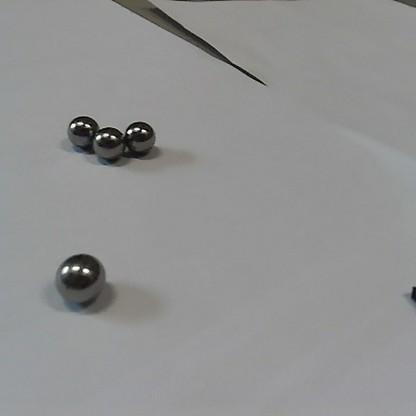ironball: (55, 254, 108, 308), (93, 126, 126, 163), (66, 113, 98, 149), (123, 121, 156, 155)
